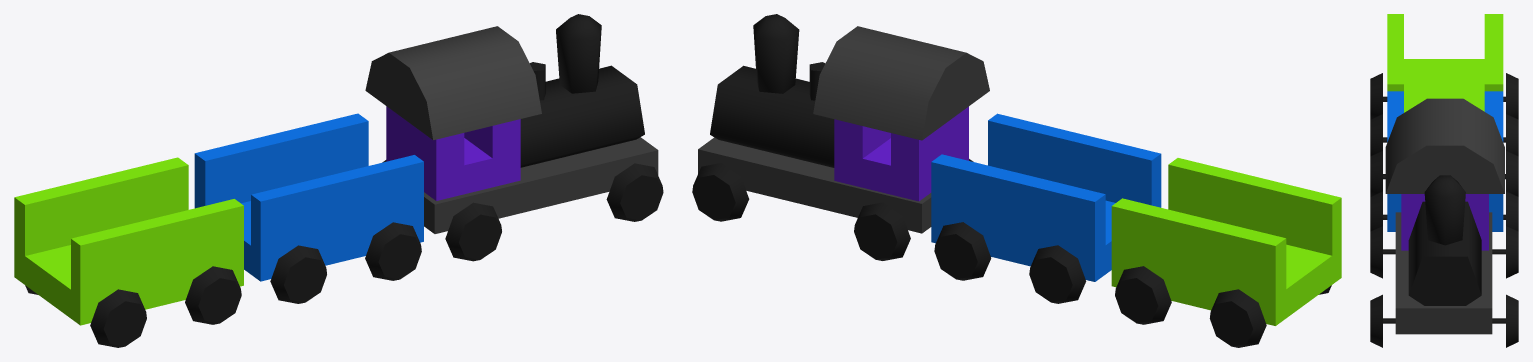
Rendered from Train_C.FBX.
The picture shows the model from 3 angles, left to right: view 1: azimuth 30°, elevation 25°; view 2: azimuth 150°, elevation 25°; view 3: azimuth 270°, elevation 25°; orthographic projection. The views are drawn at different scales.
Parts seen in each view (by area): view 1: Train, Train_Car_B, Train_Car_A; view 2: Train, Train_Car_B, Train_Car_A; view 3: Train, Train_Car_B, Train_Car_A.
Boxes of the visible parts, box(x1,y1,x2,y2) form: Train: box(365, 14, 663, 261); Train_Car_B: box(14, 157, 243, 347); Train_Car_A: box(194, 113, 423, 303); Train: box(692, 14, 989, 260); Train_Car_B: box(1111, 158, 1341, 347); Train_Car_A: box(931, 113, 1161, 303); Train: box(1370, 98, 1518, 347); Train_Car_B: box(1370, 14, 1518, 155); Train_Car_A: box(1370, 91, 1518, 231).
Size of the model in its own units: 189 by 57.11 by 47.21.
